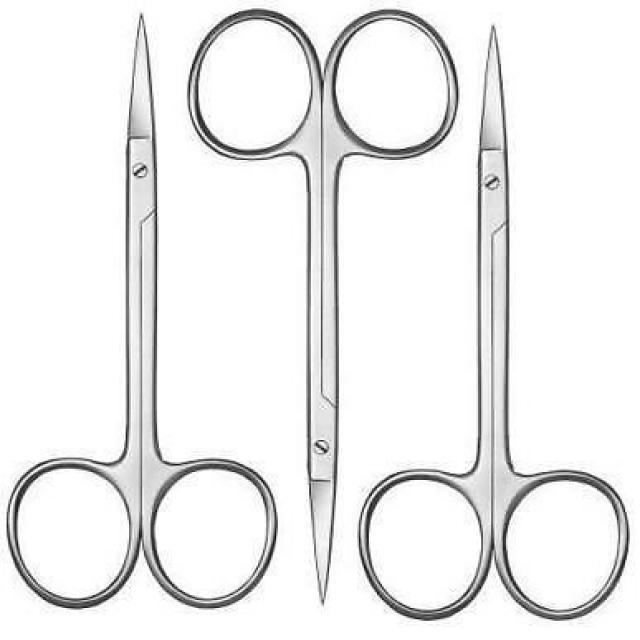Iris: (185, 3, 463, 610), (7, 8, 282, 616), (356, 22, 632, 626)
